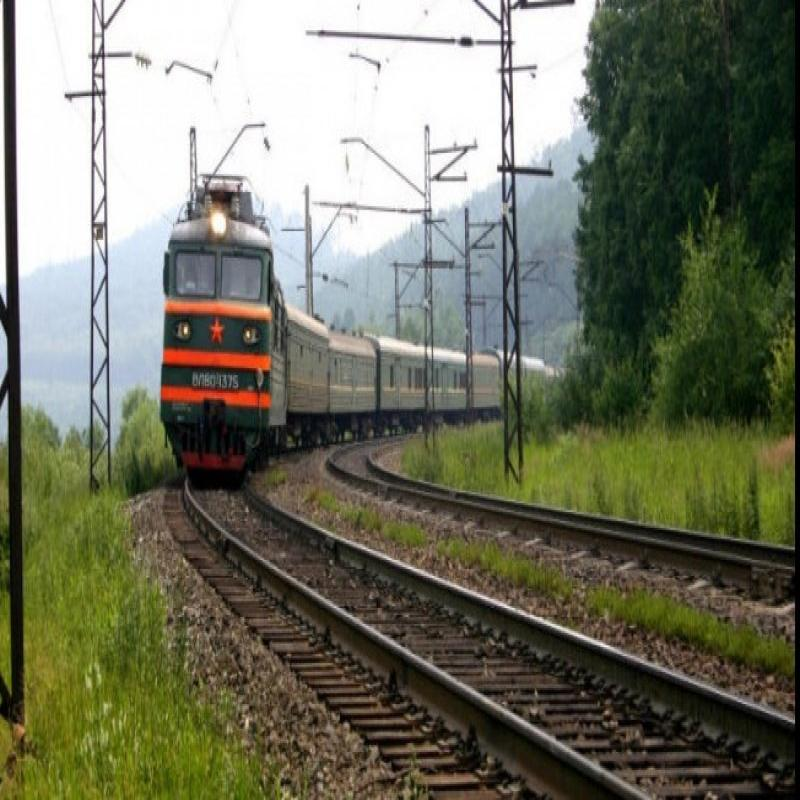train: (162, 144, 280, 484), (282, 297, 421, 438)
